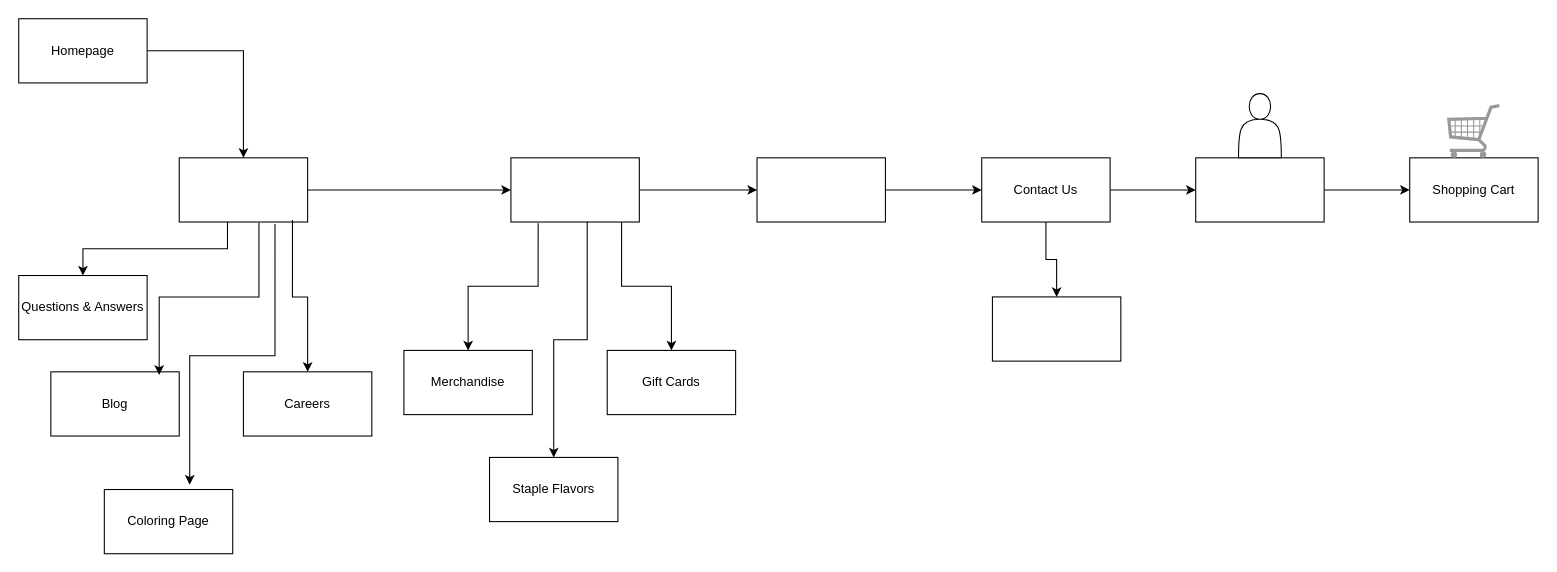
This 1557x572 diagram has some shape labels left out. The shapes that lost their labels are listed below. From the top down, each one's box as (x1, y1, x2, y2) in pixels, then its label:
(178, 157, 308, 222): About
(510, 157, 639, 222): Shop
(756, 157, 885, 222): Catering & Events
(1195, 157, 1324, 222): Account Sign In
(991, 296, 1121, 361): Locations & Hours
